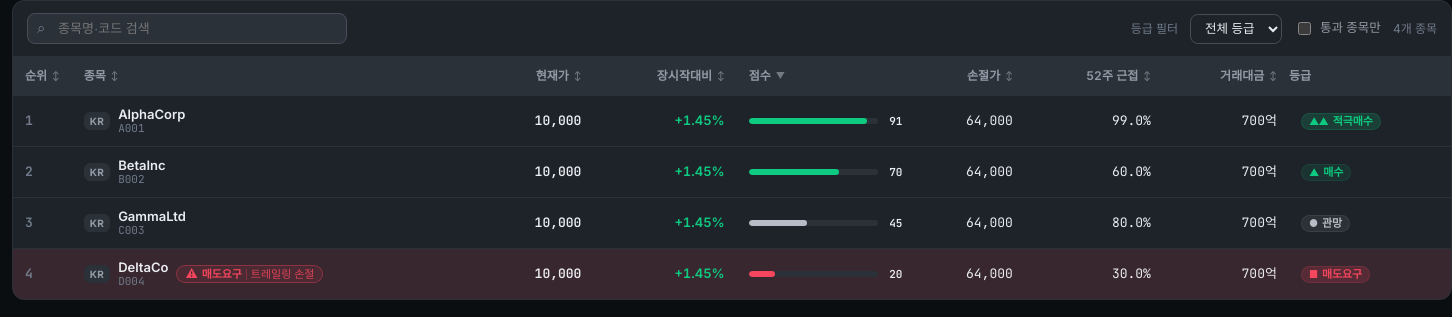
it: RankingTable › filters by grade
Select "매수" in the dropdown labelled "등급 필터" at (1236, 28), box [1190,14,1282,44]
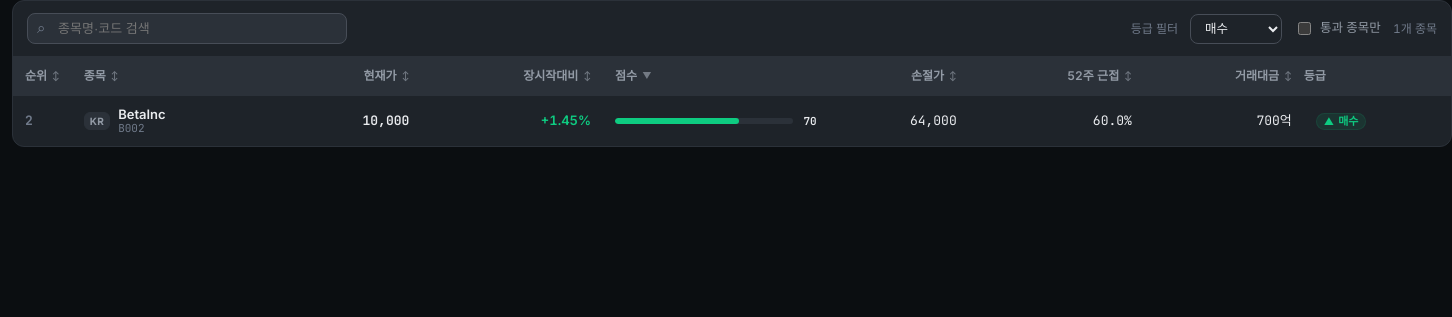
Expected: the text "BetaInc" is shown, [118,106,166,122]
Now the button "AlphaCorp" is gone
Now the button "GammaLtd" is gone
